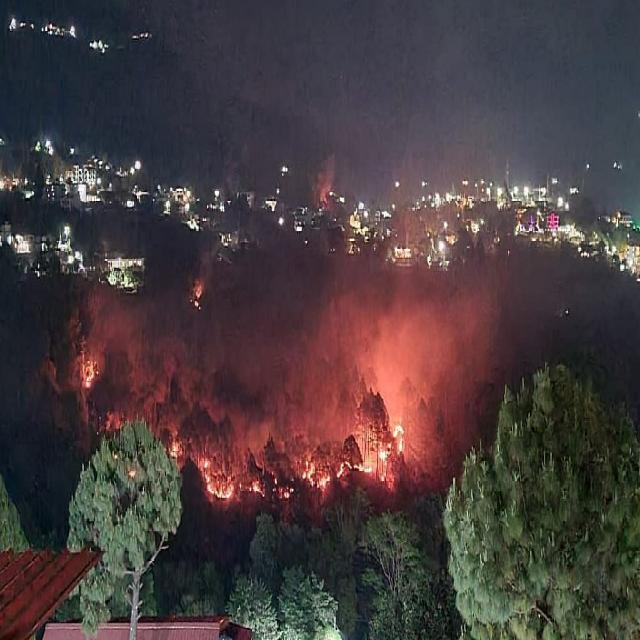Forest: (0, 0, 640, 640)
Wildfire: (68, 230, 455, 506)
